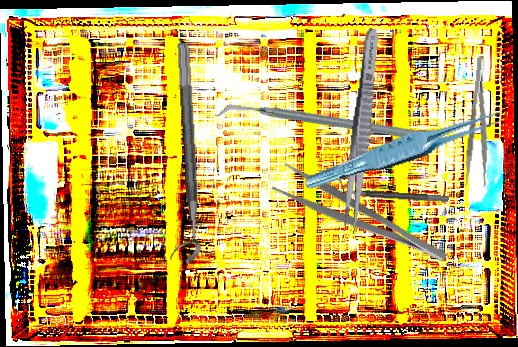Chopper: (213, 28, 437, 221)
Dressing Forceps: (270, 160, 450, 280), (340, 27, 383, 235), (463, 55, 498, 188)
Fixation Ring: (159, 42, 202, 265), (333, 178, 450, 203)
Tissue Forceps: (299, 106, 514, 193)
